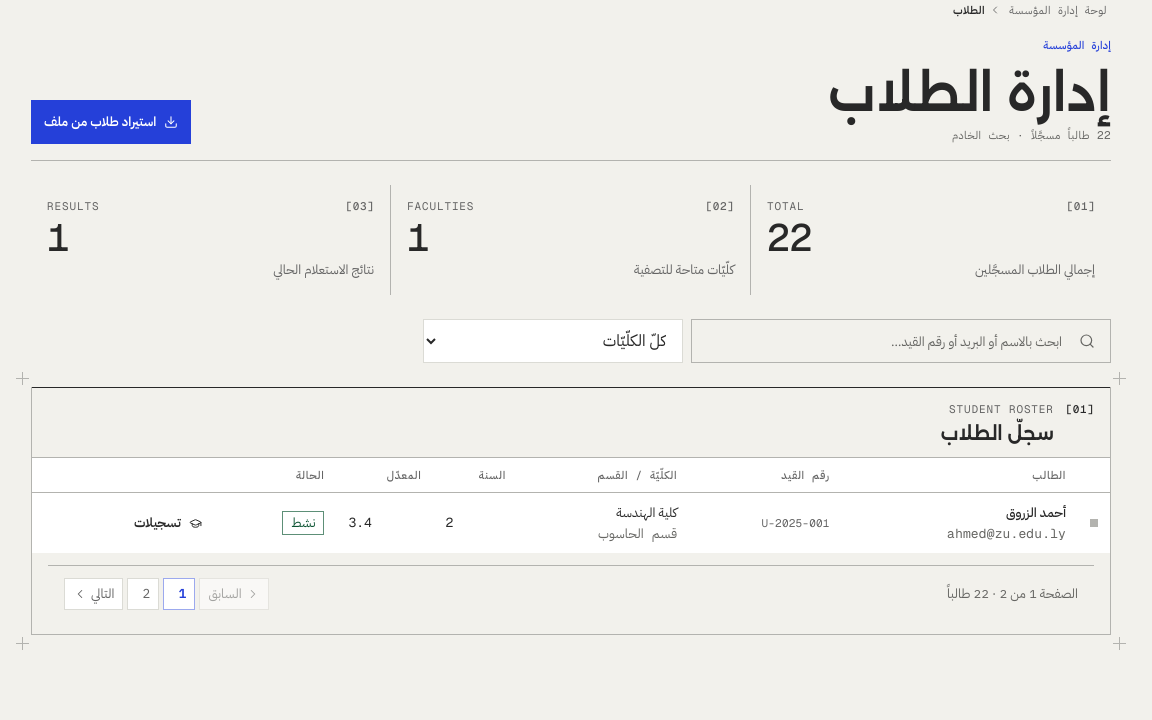
Scenario: EnrollmentModal — the drop gate (r157 / 6A9 #4) › confirm fires ONE delete for the confirmed row and the per-row pending label rides drop.variables
The image size is (1152, 720).
Click the button with aria-label "تسجيلات أحمد الزروق" at [168, 523], box [121,501,215,545]
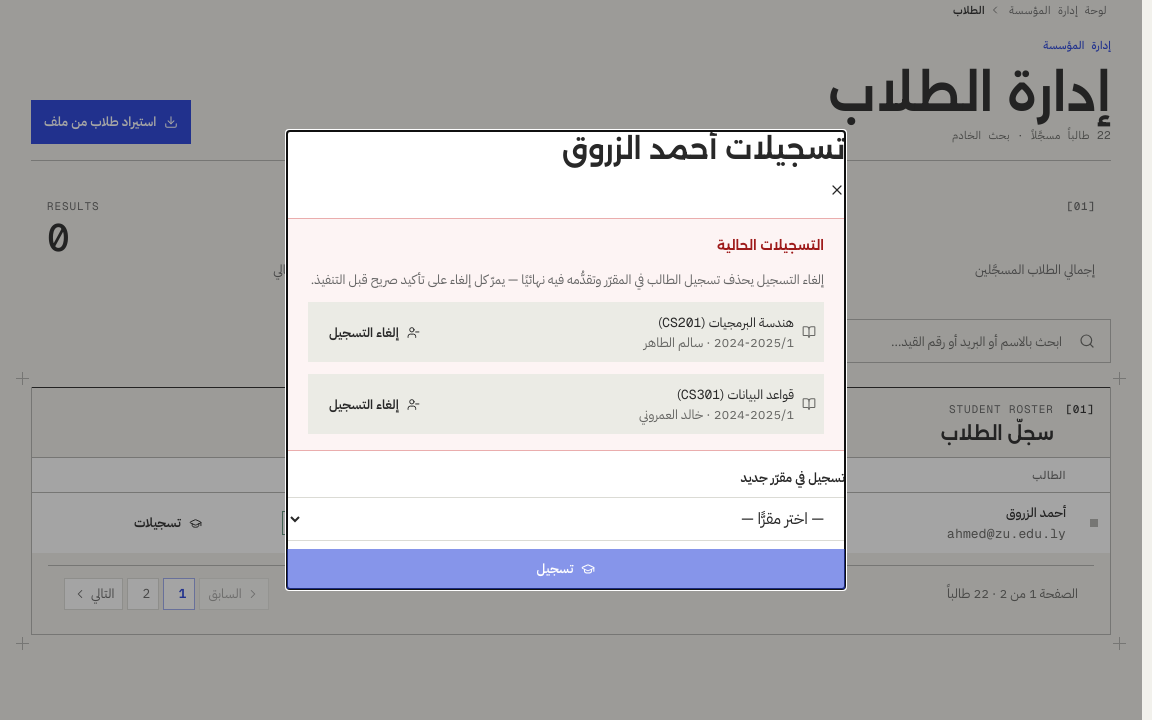
Now the number of buttons "إلغاء التسجيل" is 2
// Gate the FIRST enrollment (هندسة البرمجيات) through the dialog.
Click the button "إلغاء التسجيل" in the row of "الطاهر" at [374, 332], box [316,310,433,354]
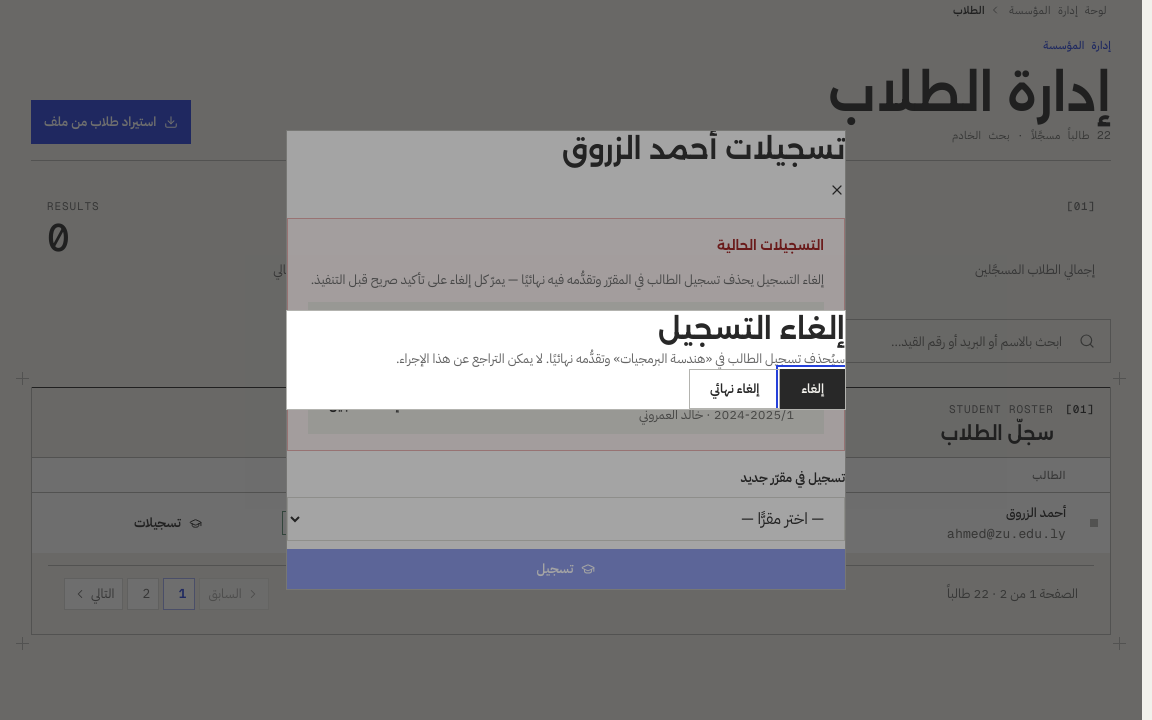
Click the button "إلغاء نهائي" at [735, 389], box [689,369,780,409]
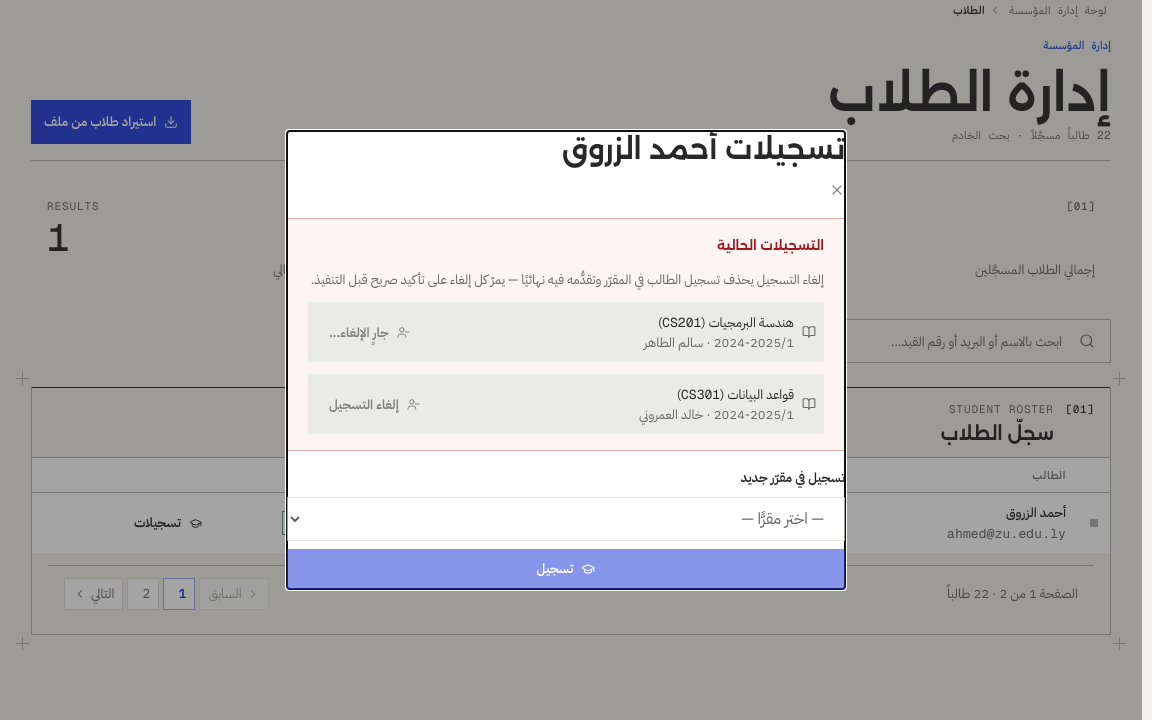
Now the button "إلغاء التسجيل" is shown, box [316,382,433,426]
Now the button "جارٍ الإلغاء…" is disabled, box [316,310,423,354]
